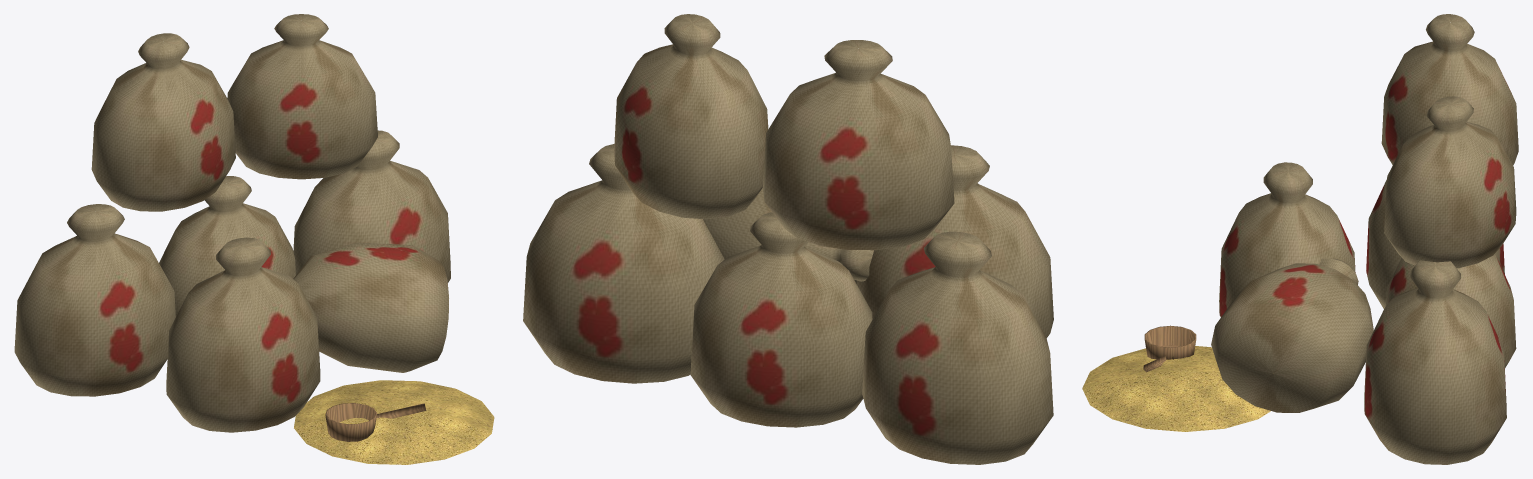
File: grain_sacks.glb
3 renders of one model, left to right at view 1: azimuth 30°, elevation 25°; view 2: azimuth 150°, elevation 25°; view 3: azimuth 270°, elevation 25°, orthographic. The views are drawn at different scales.
Visible parts, largest first — view 1: Sacks, SpilledGrain, Scoop; view 2: Sacks; view 3: Sacks, SpilledGrain, Scoop.
Boxes of the visible parts, bbox=[...] form: Sacks: bbox=[14, 14, 450, 432]; SpilledGrain: bbox=[294, 380, 494, 464]; Scoop: bbox=[325, 403, 426, 441]; Sacks: bbox=[523, 14, 1053, 464]; Sacks: bbox=[1211, 14, 1518, 464]; SpilledGrain: bbox=[1082, 346, 1270, 431]; Scoop: bbox=[1143, 325, 1196, 372].
Size of what is drawn, in the model's own units: 1.69 by 1.19 by 1.48.
Materials: 3 (3 with a texture image).
